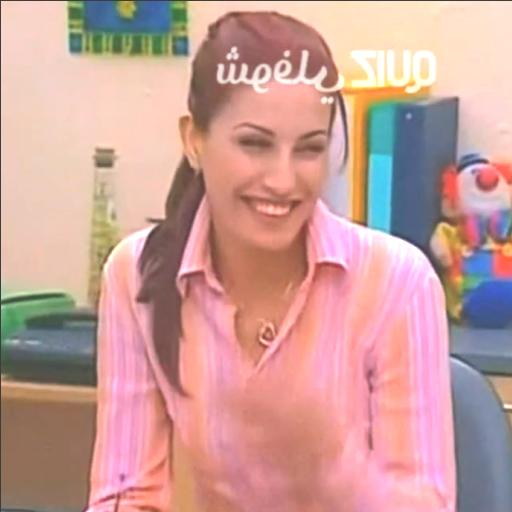Dalanda: (204, 83, 329, 249)
